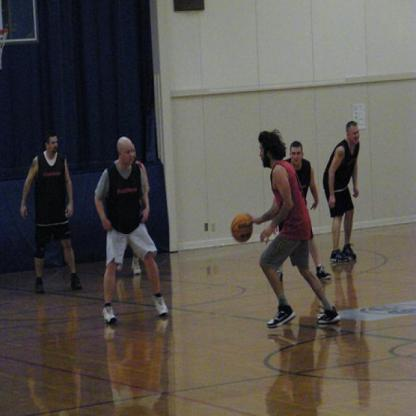basketball: (230, 212, 253, 244)
